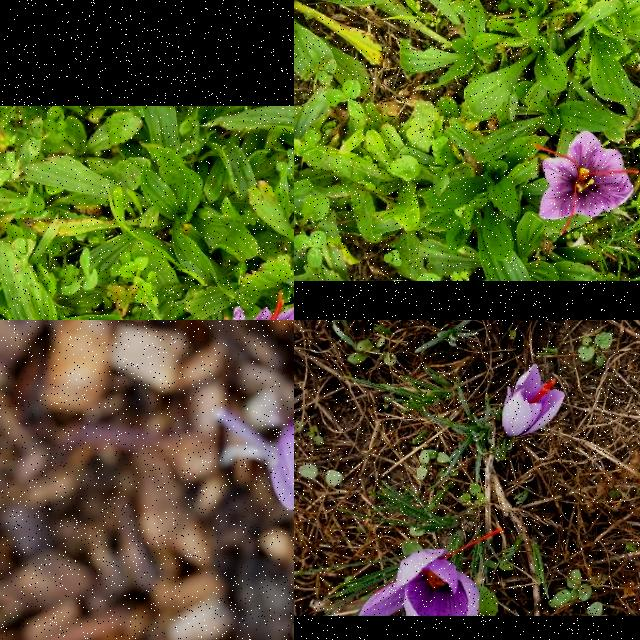flower: (361, 528, 504, 616), (533, 130, 639, 232), (502, 364, 566, 438), (264, 418, 294, 514), (234, 292, 294, 320)
